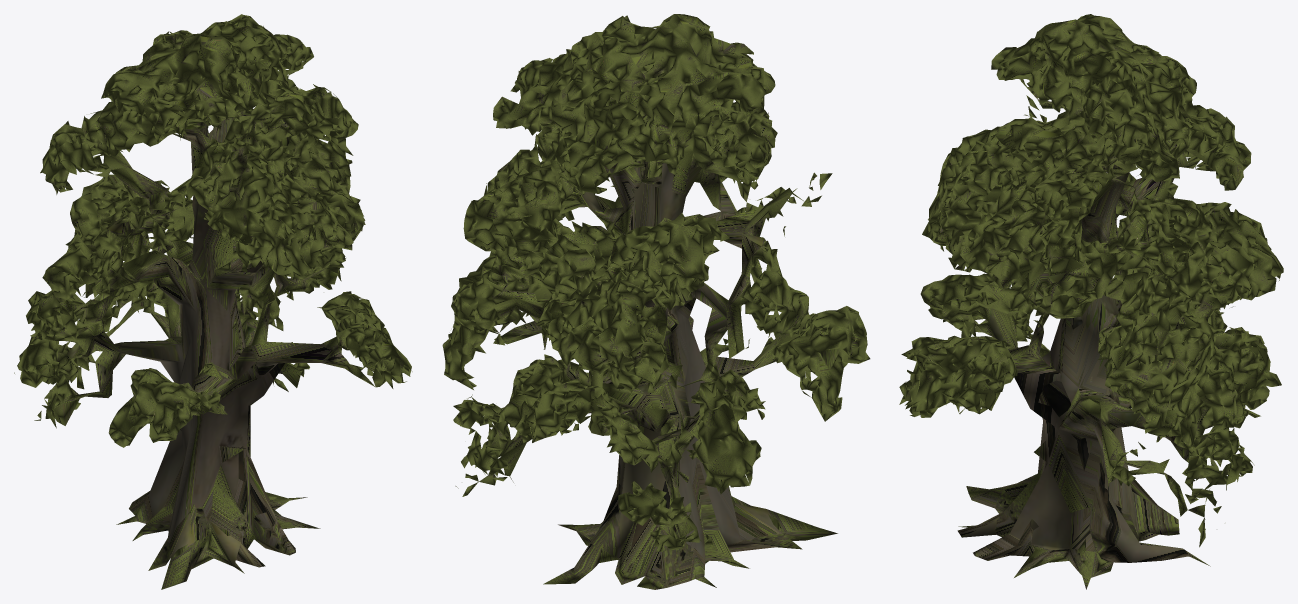
Rendered from tree-a.glb.
3 renders of one model, left to right at view 1: azimuth 30°, elevation 25°; view 2: azimuth 150°, elevation 25°; view 3: azimuth 270°, elevation 25°, orthographic. The views are drawn at different scales.
Bounding box in the file's own units: 1.31 × 1.99 × 1.35.
Materials: 1 (1 with a texture image).
